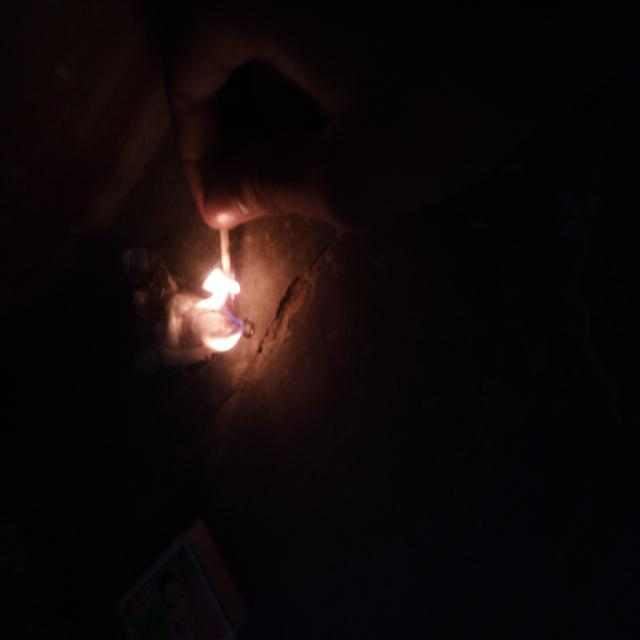Fire: (212, 223, 305, 331)
